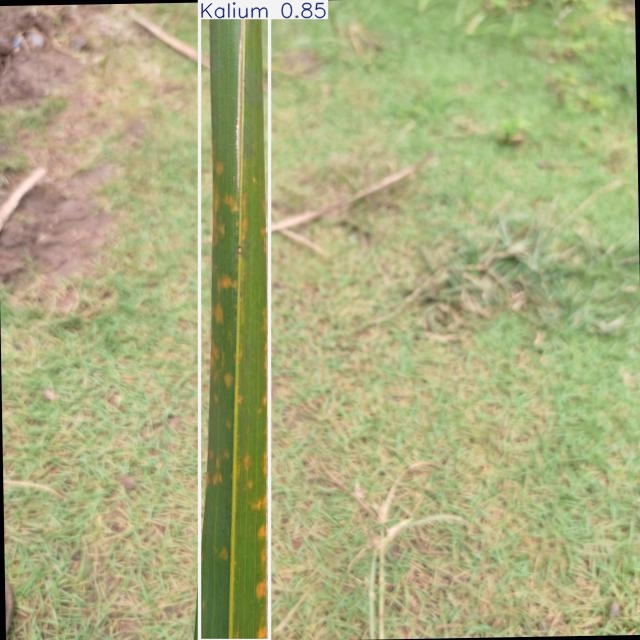Kalium: (200, 0, 270, 640)
